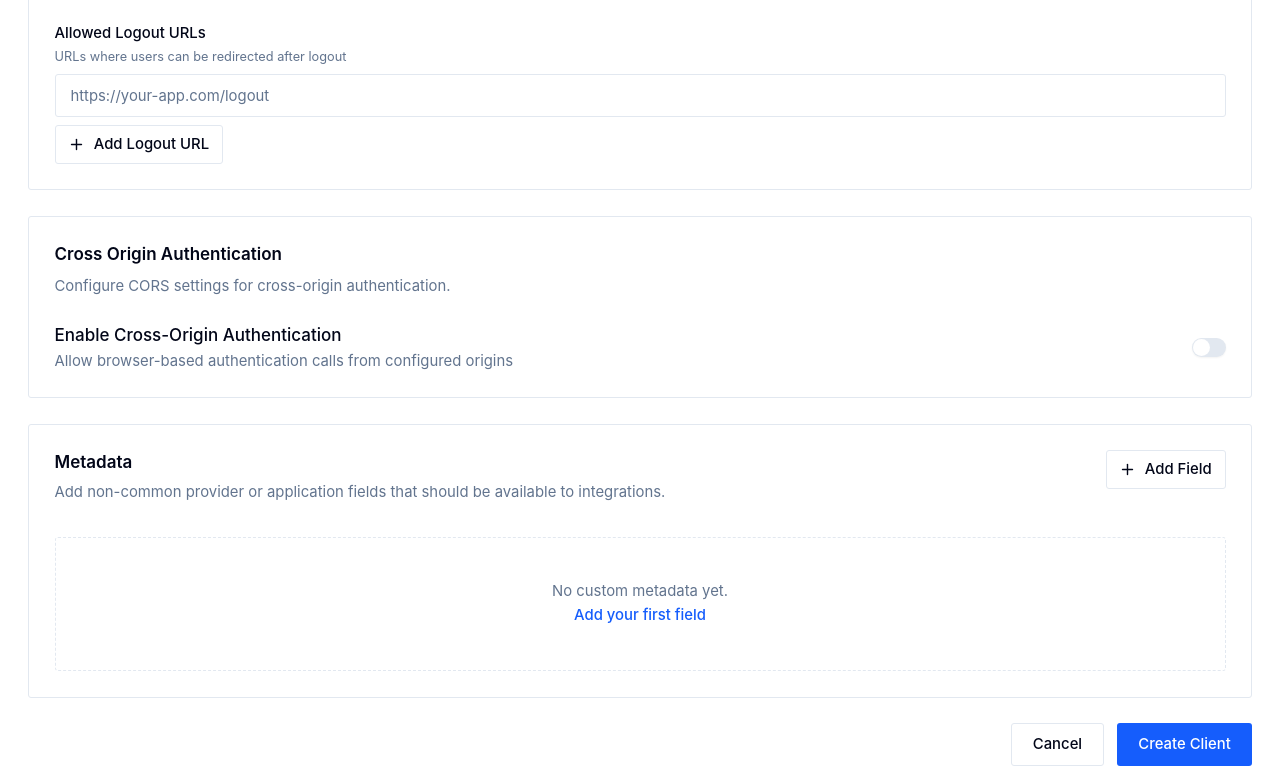
Test: ClientAddOrUpdateForm › cancel after editing metadata prompts before discarding
(page scrolled)
Click the button "Add Field" at (1166, 469), box x1=1106 y1=450 x2=1226 y2=489
(page scrolled)
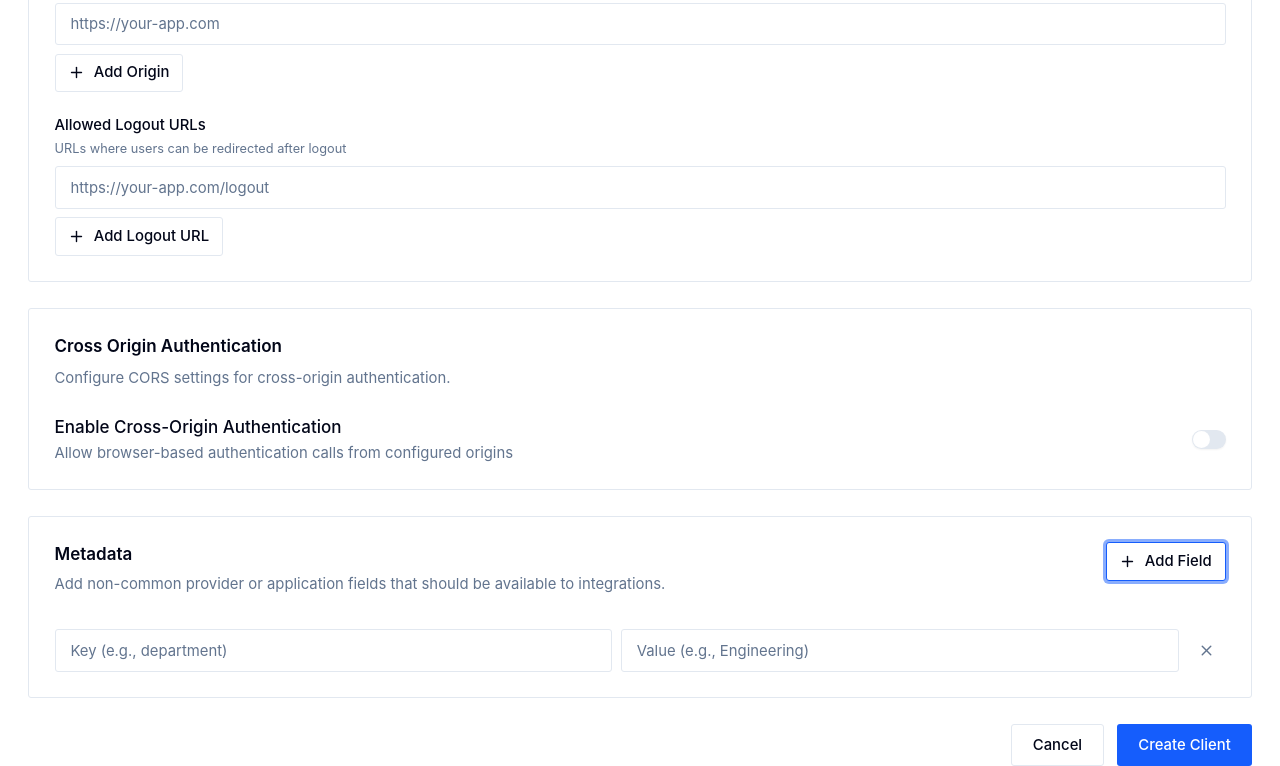
Click the button "Cancel" at (1057, 745), box x1=1010 y1=724 x2=1104 y2=765
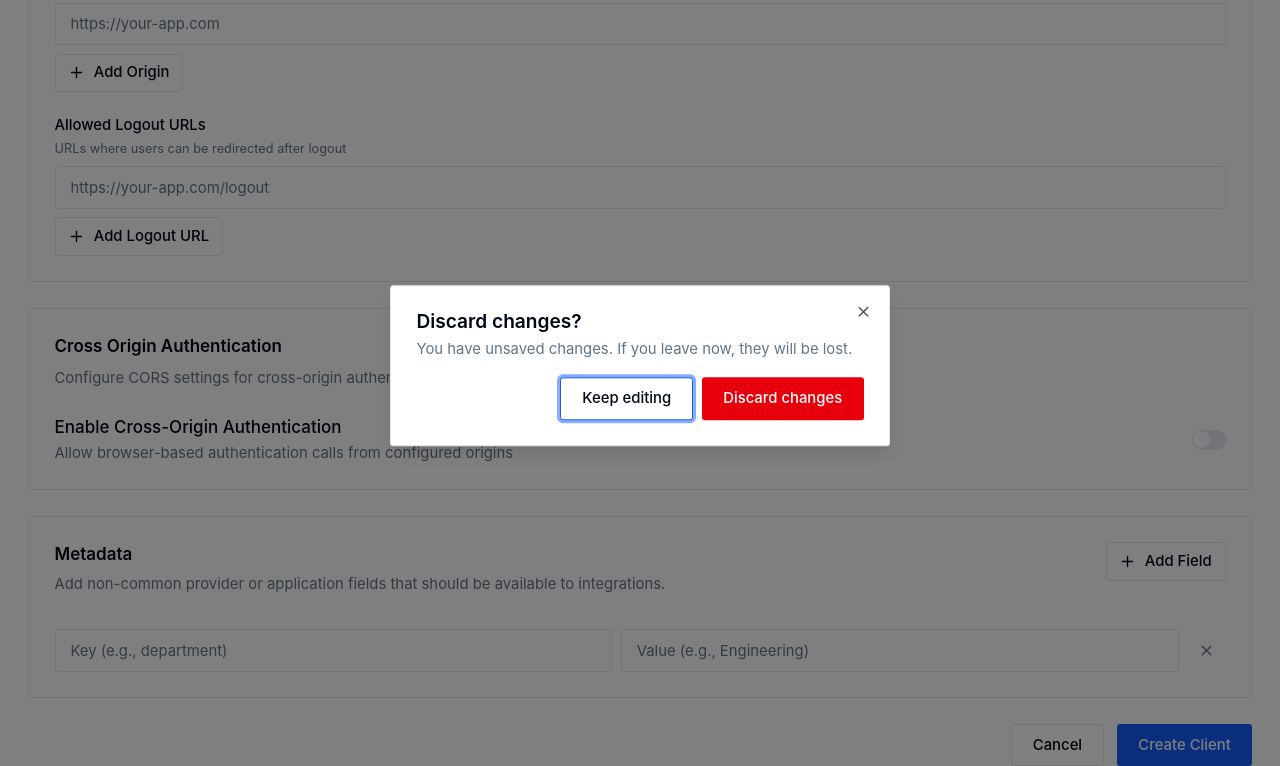
Now the heading "Discard changes?" is shown, box x1=416 y1=309 x2=582 y2=333
